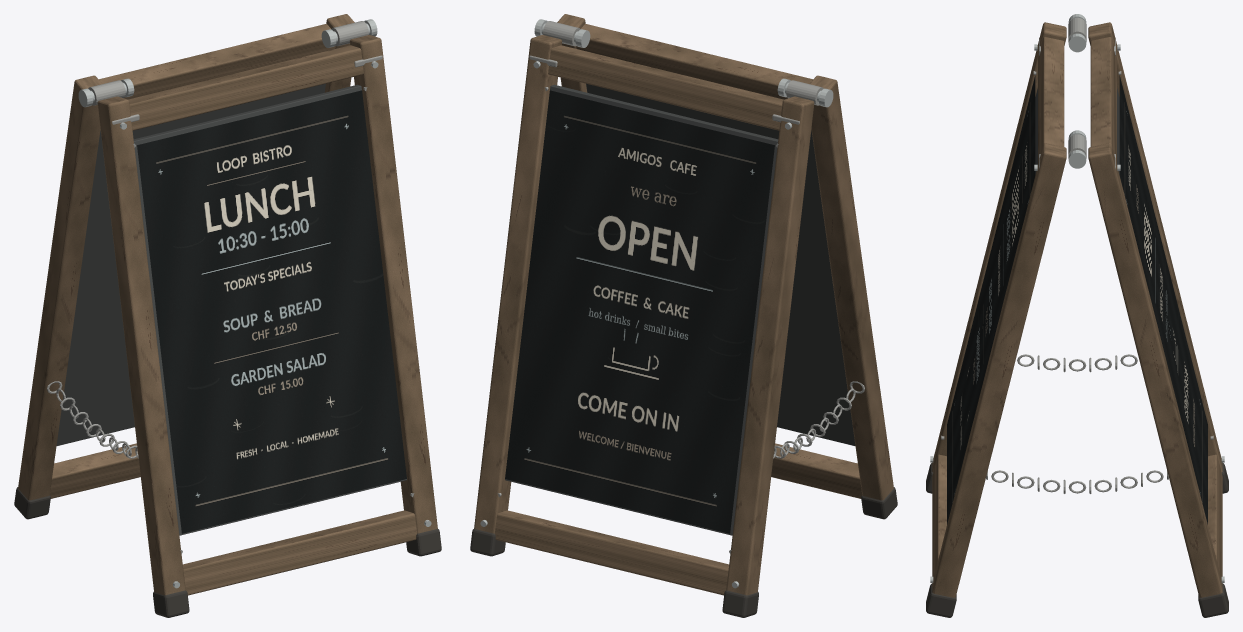
The model's file is Swiss_AFrame_Cafe_Chalkboard.glb.
The picture shows the model from 3 angles, left to right: view 1: azimuth 30°, elevation 25°; view 2: azimuth 150°, elevation 25°; view 3: azimuth 270°, elevation 25°; orthographic projection.
Parts seen in each view (by area): view 1: FRONT | LOOP LUNCH | replaceable chalk decal, Cafe A-Frame | wood, Cafe A-Frame | board back, Cafe A-Frame | rubber, Cafe A-Frame | hinges, Cafe A-Frame | chain; view 2: BACK | AMIGOS OPEN | replaceable chalk decal, Cafe A-Frame | wood, Cafe A-Frame | board back, Cafe A-Frame | rubber, Cafe A-Frame | hinges, Cafe A-Frame | chain; view 3: Cafe A-Frame | wood, FRONT | LOOP LUNCH | replaceable chalk decal, BACK | AMIGOS OPEN | replaceable chalk decal, Cafe A-Frame | chain, Cafe A-Frame | rubber, Cafe A-Frame | hinges, Cafe A-Frame | board back.
Boxes of the visible parts, box(x1,y1,x2,y2) form: FRONT | LOOP LUNCH | replaceable chalk decal: box(137, 90, 406, 533); Cafe A-Frame | wood: box(18, 14, 437, 595); Cafe A-Frame | board back: box(56, 83, 406, 535); Cafe A-Frame | rubber: box(14, 487, 441, 617); Cafe A-Frame | hinges: box(78, 19, 382, 124); Cafe A-Frame | chain: box(47, 381, 138, 458); BACK | AMIGOS OPEN | replaceable chalk decal: box(505, 90, 774, 533); Cafe A-Frame | wood: box(474, 14, 893, 595); Cafe A-Frame | board back: box(505, 83, 855, 535); Cafe A-Frame | rubber: box(470, 487, 897, 617); Cafe A-Frame | hinges: box(529, 19, 833, 124); Cafe A-Frame | chain: box(773, 381, 864, 458); Cafe A-Frame | wood: box(932, 22, 1222, 597); FRONT | LOOP LUNCH | replaceable chalk decal: box(947, 76, 1035, 524); BACK | AMIGOS OPEN | replaceable chalk decal: box(1119, 76, 1207, 524); Cafe A-Frame | chain: box(986, 354, 1168, 493); Cafe A-Frame | rubber: box(926, 463, 1228, 617); Cafe A-Frame | hinges: box(1039, 14, 1115, 168); Cafe A-Frame | board back: box(1035, 88, 1119, 174).
Size of the model in its own units: 0.706 by 1.11 by 0.6505.
Materials: 8 (3 with a texture image).
